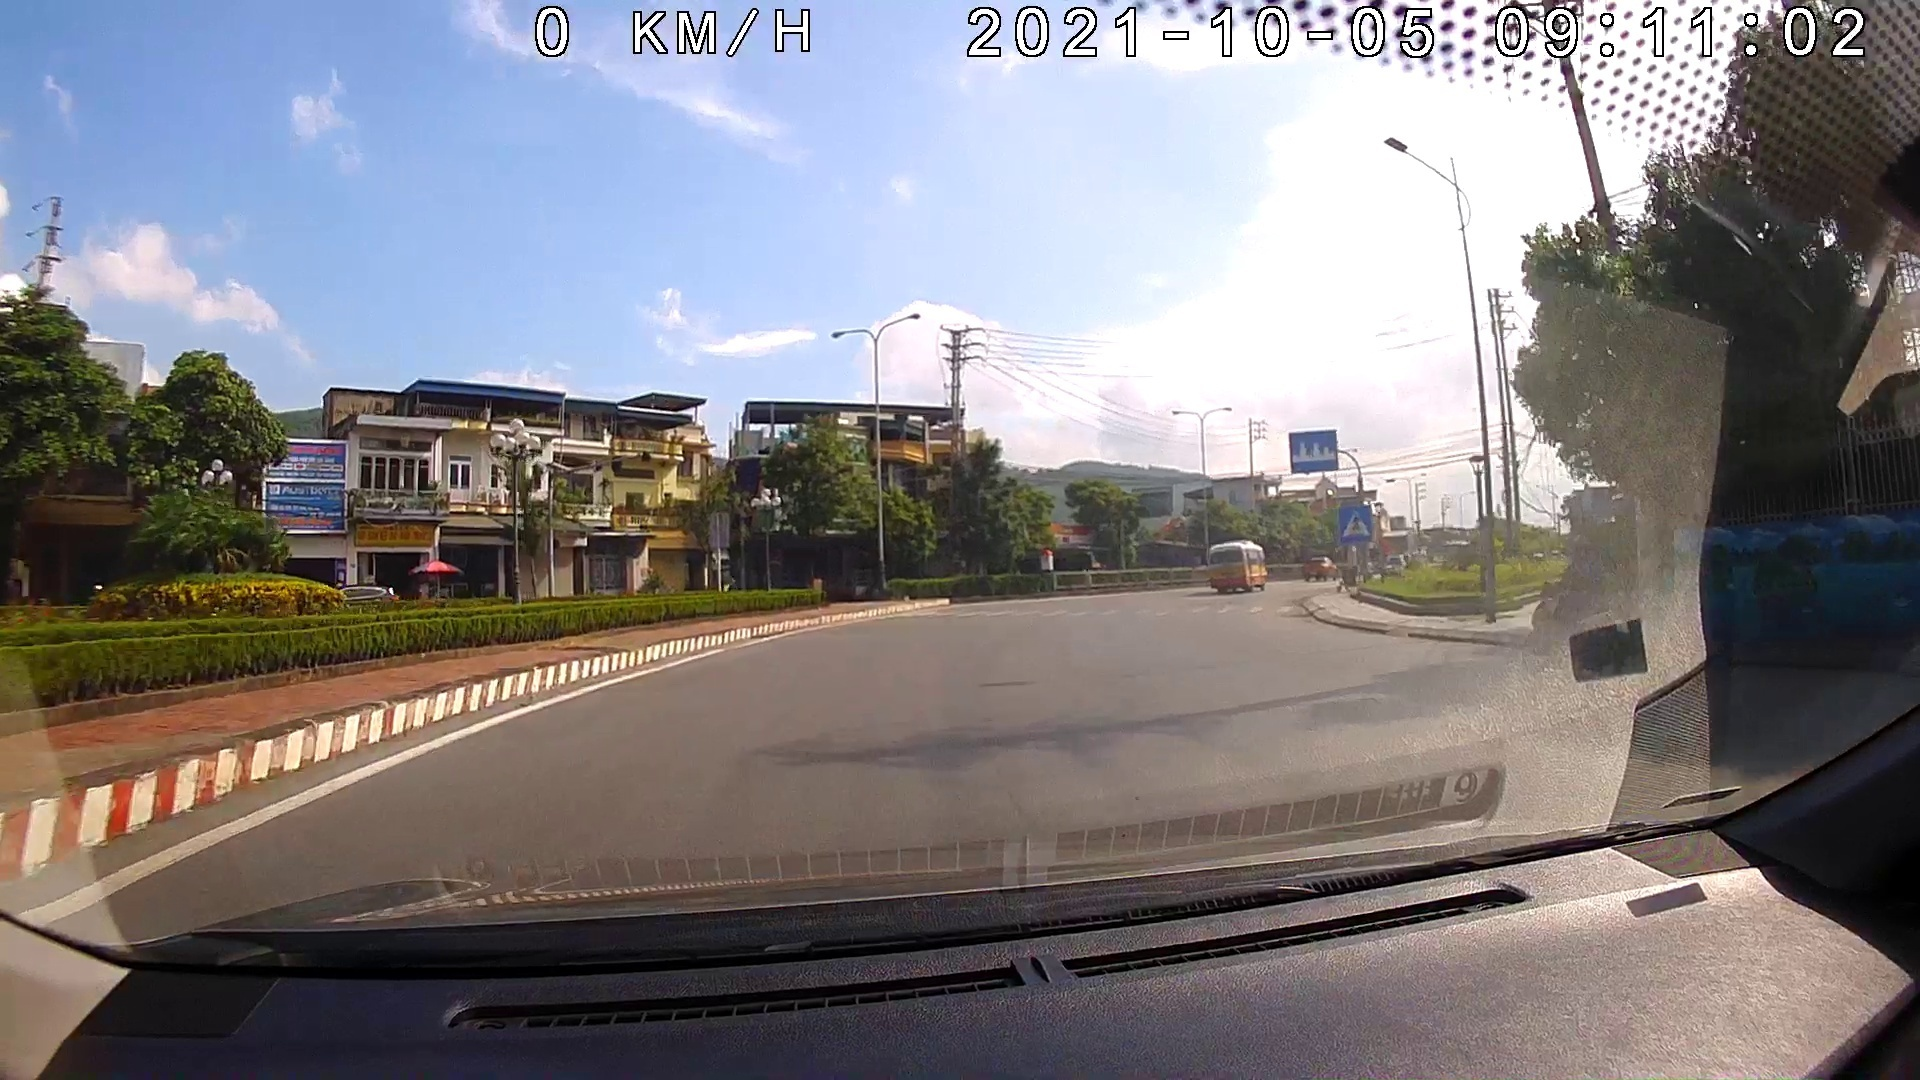Bien khac: (1288, 430, 1338, 473)
Nguoi di bo: (1336, 505, 1371, 542)
